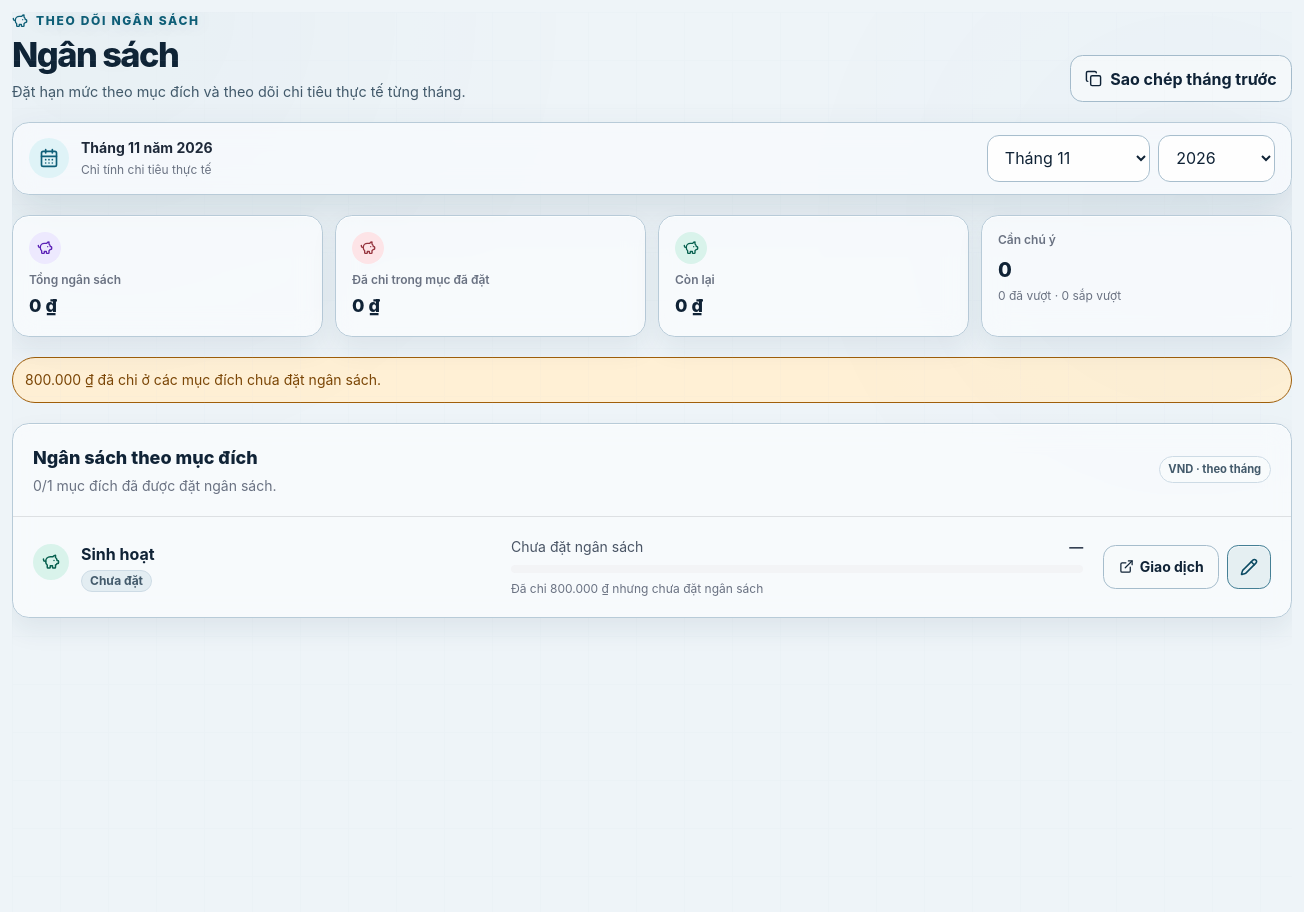
it: Quản lý ngân sách V1 › cho owner đặt ngân sách theo mục đích và dẫn tới giao dịch đã lọc
Click the button named "Đặt ngân sách": (1249, 567) [1227, 545, 1271, 589]
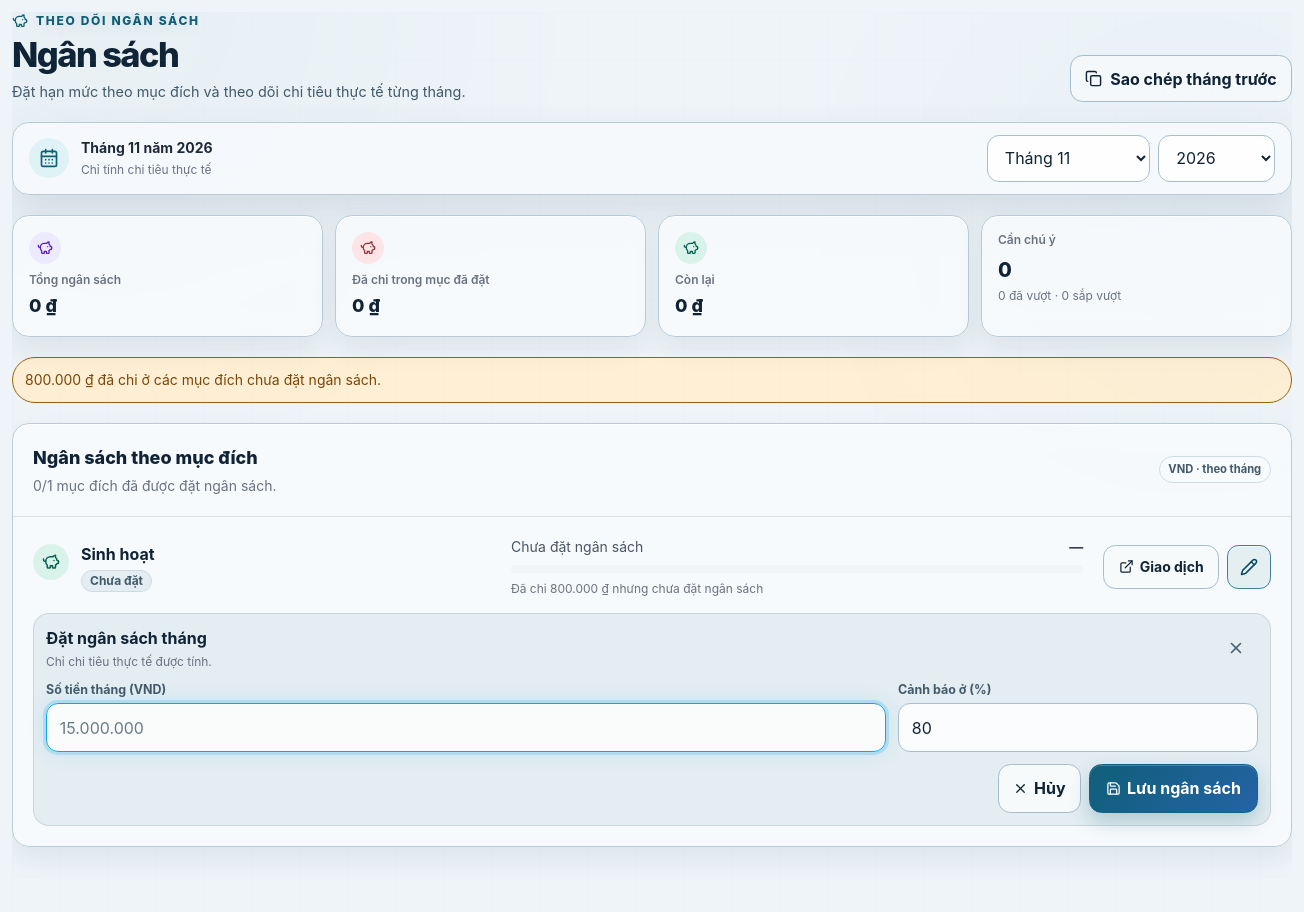
In the field named "Số tiền ngân sách Sinh hoạt": (466, 728) [46, 703, 886, 752], type "1.000.000"
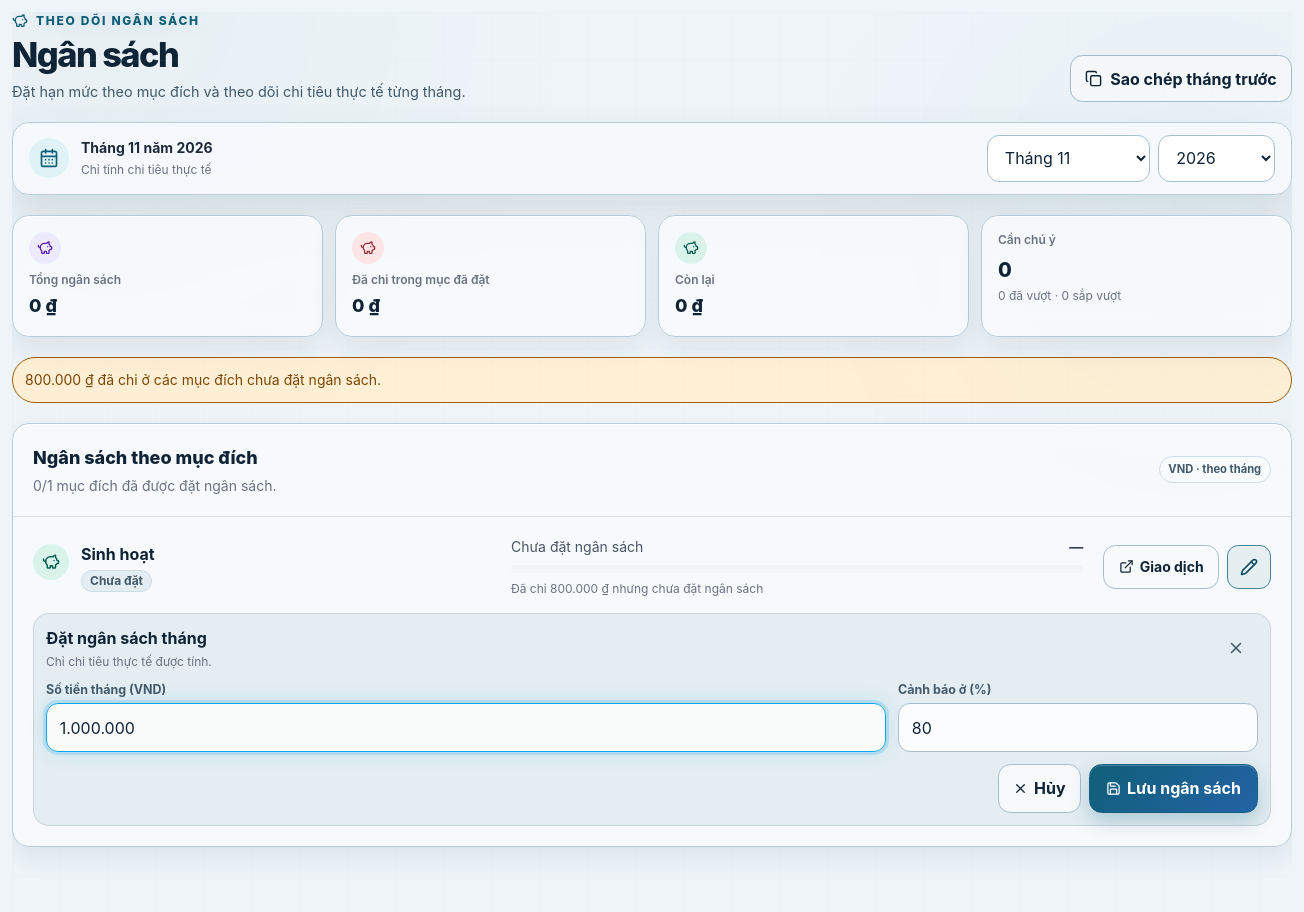
Click the button "Lưu ngân sách": (1173, 788) [1089, 764, 1258, 813]
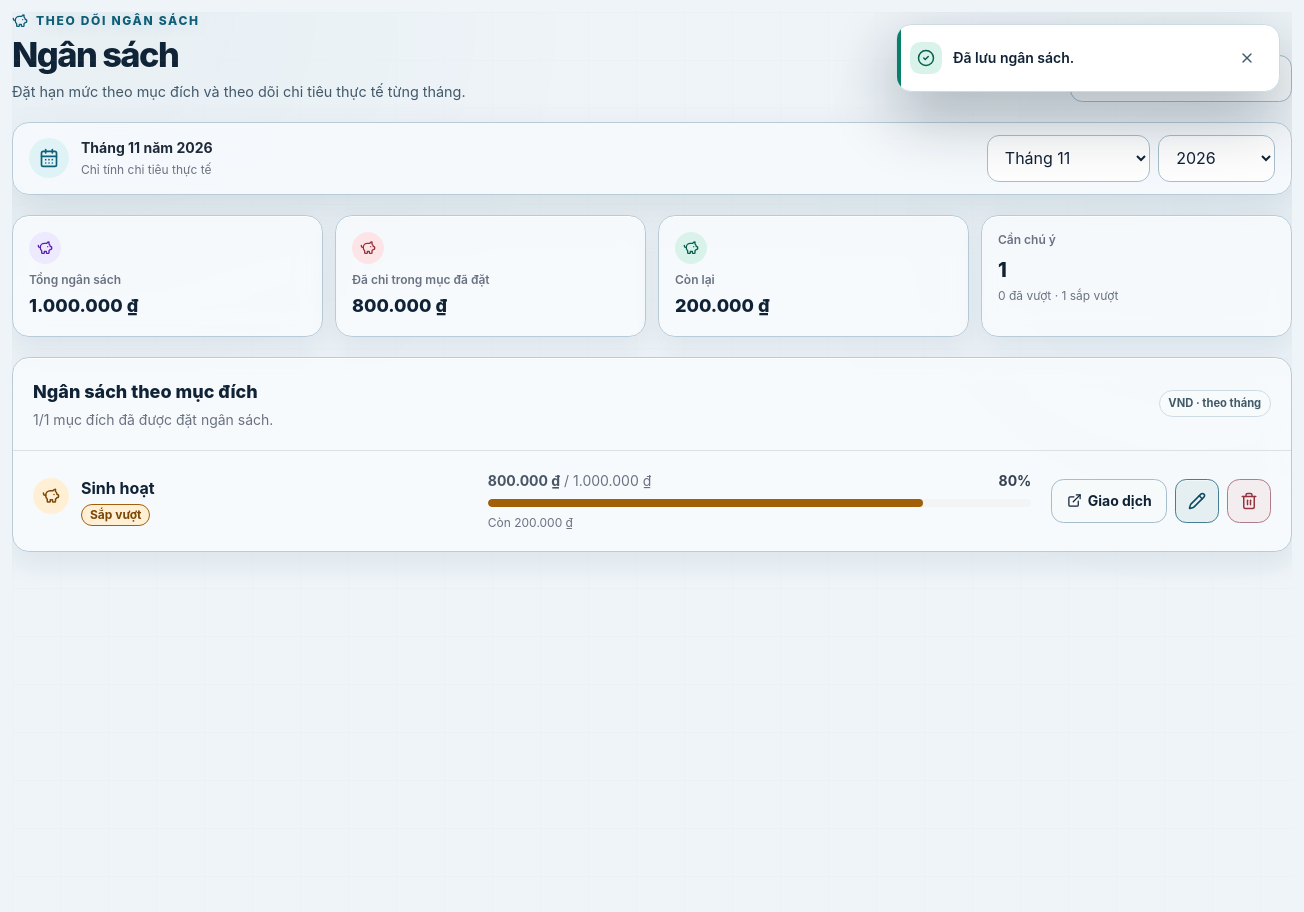
Expected: the text "Chỉ tính chi tiêu thực tế" is shown, [81, 162, 213, 178]
Expected: the text "1.000.000 ₫" is shown, [29, 295, 138, 316]
Expected: the text "Sắp vượt" is shown, [81, 504, 150, 526]
